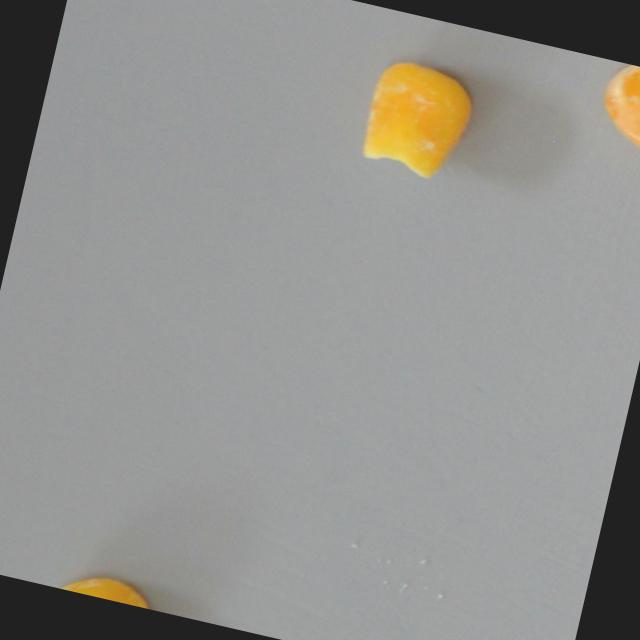pelicula: (356, 54, 479, 186), (53, 564, 165, 611), (594, 59, 640, 152)
